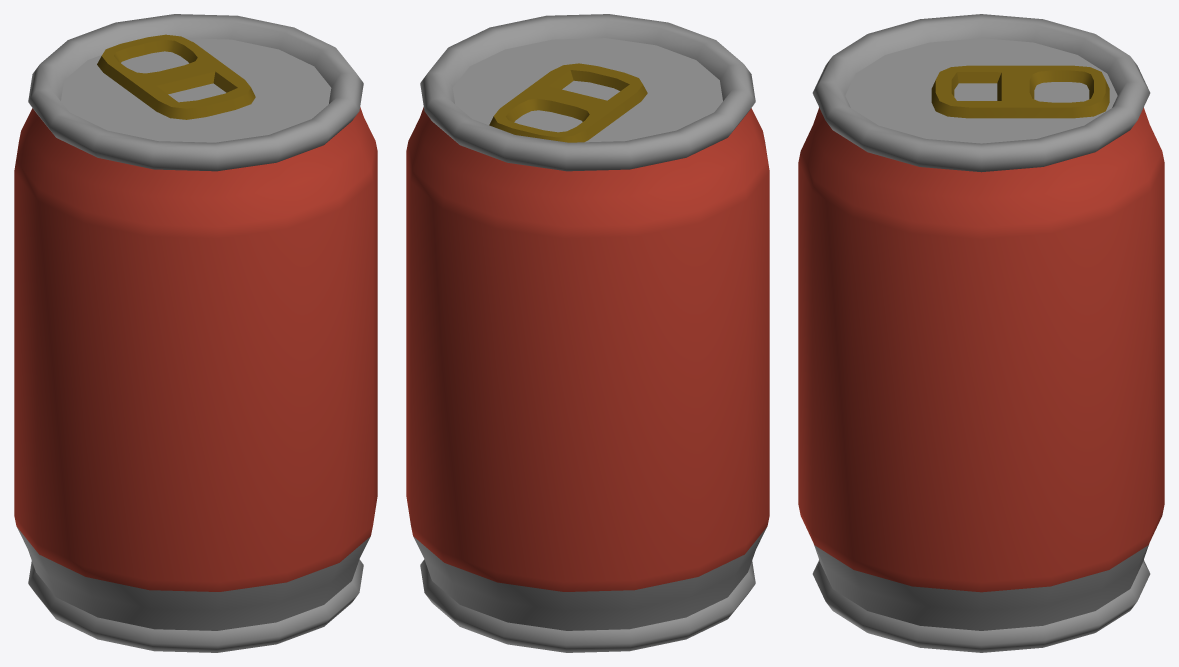
Rendered from SodaCan.FBX.
3 renders of one model, left to right at view 1: azimuth 30°, elevation 25°; view 2: azimuth 150°, elevation 25°; view 3: azimuth 270°, elevation 25°, orthographic.
Visible parts, largest first — view 1: SodaCan; view 2: SodaCan; view 3: SodaCan.
Boxes of the visible parts, bbox=[...] form: SodaCan: bbox=[14, 14, 377, 652]; SodaCan: bbox=[406, 14, 769, 652]; SodaCan: bbox=[798, 14, 1164, 652].
Size of the model in its own units: 40.92 by 62.02 by 40.92.
